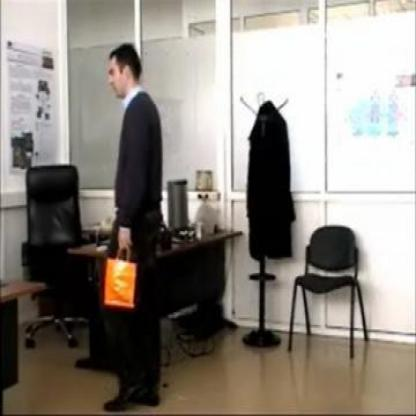other: (99, 250, 139, 314)
